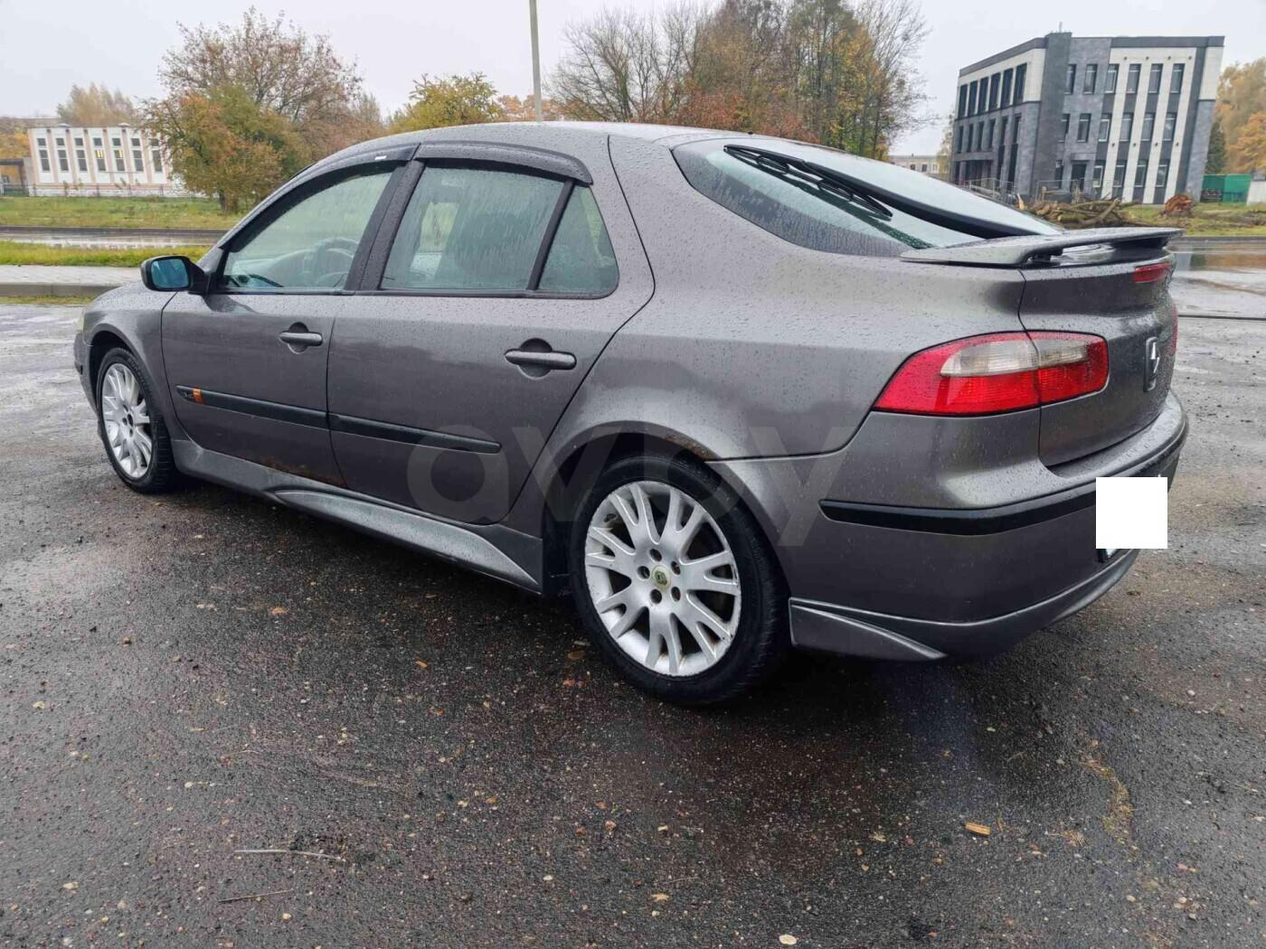Laguna_2001-2005: (73, 122, 1188, 704)
